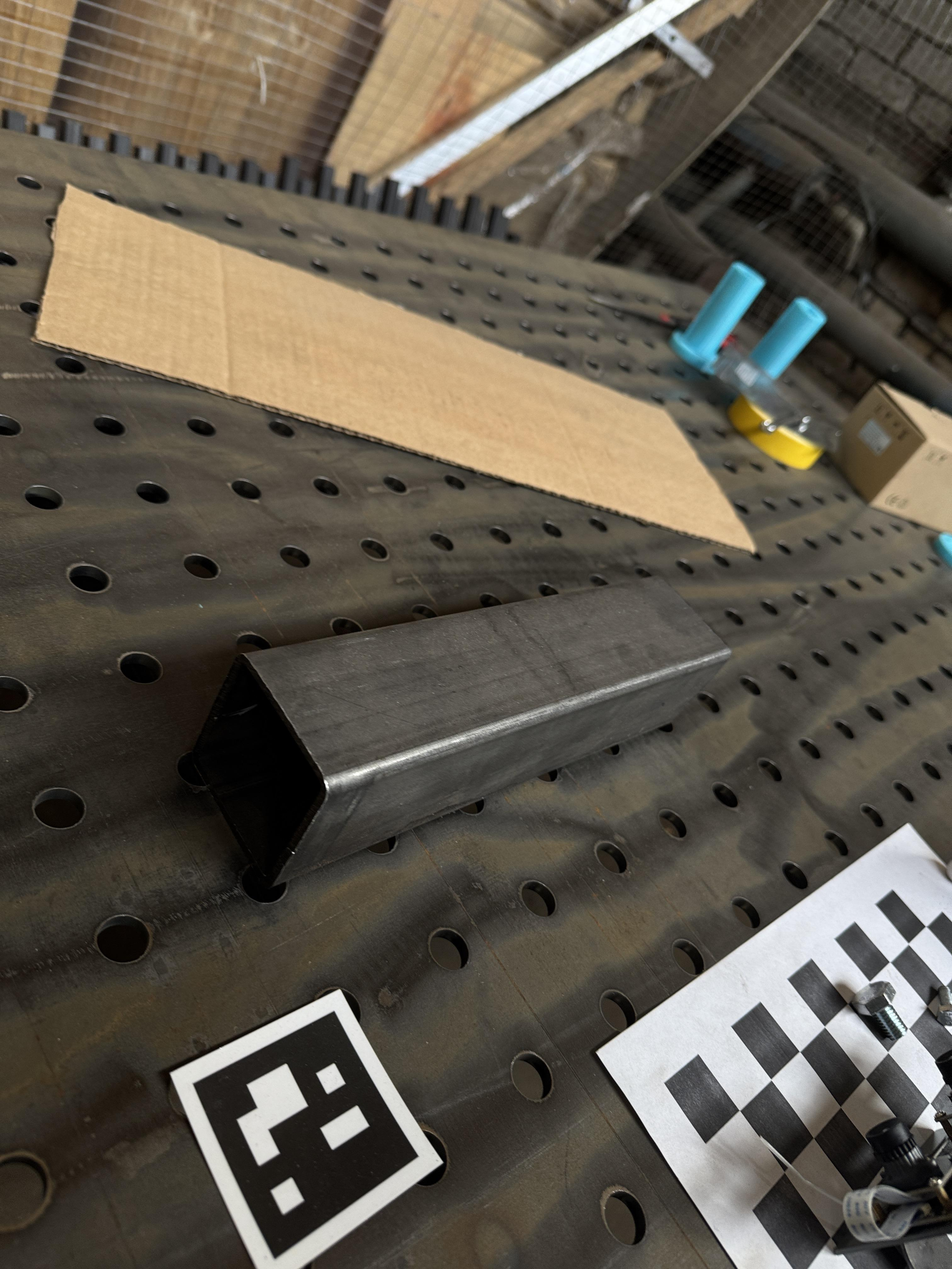detail: (192, 574, 730, 889)
